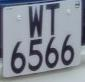5: (26, 38, 46, 74)
6: (8, 39, 28, 78), (58, 33, 77, 69), (45, 36, 60, 72)
T: (43, 1, 64, 38)
W: (26, 1, 46, 42)
